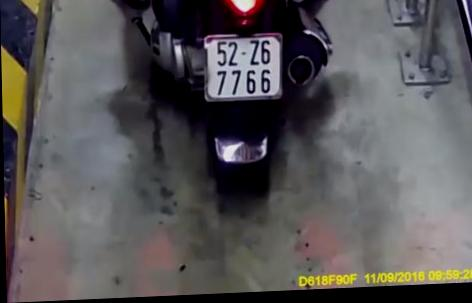License_Plate: (198, 26, 290, 105)
